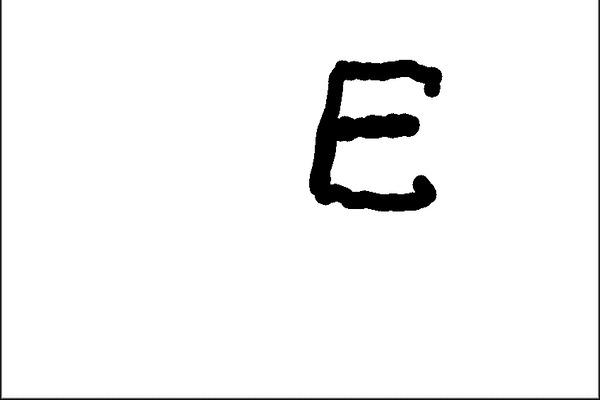E: (304, 52, 450, 216)
